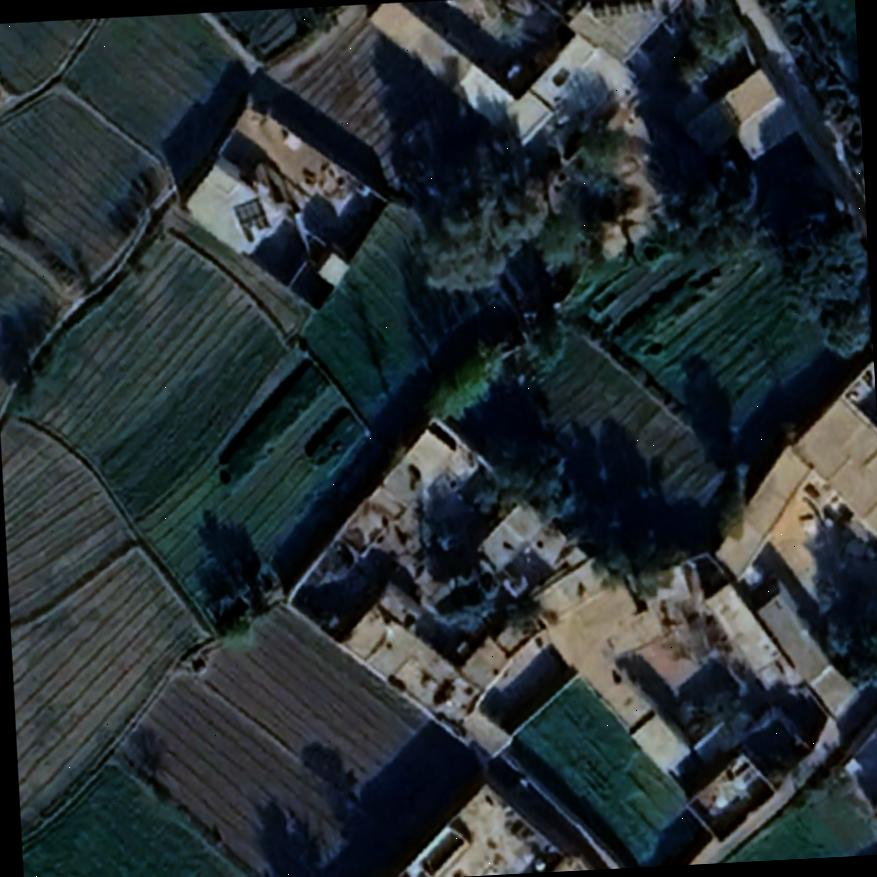Solarpanel: (231, 197, 269, 242)
